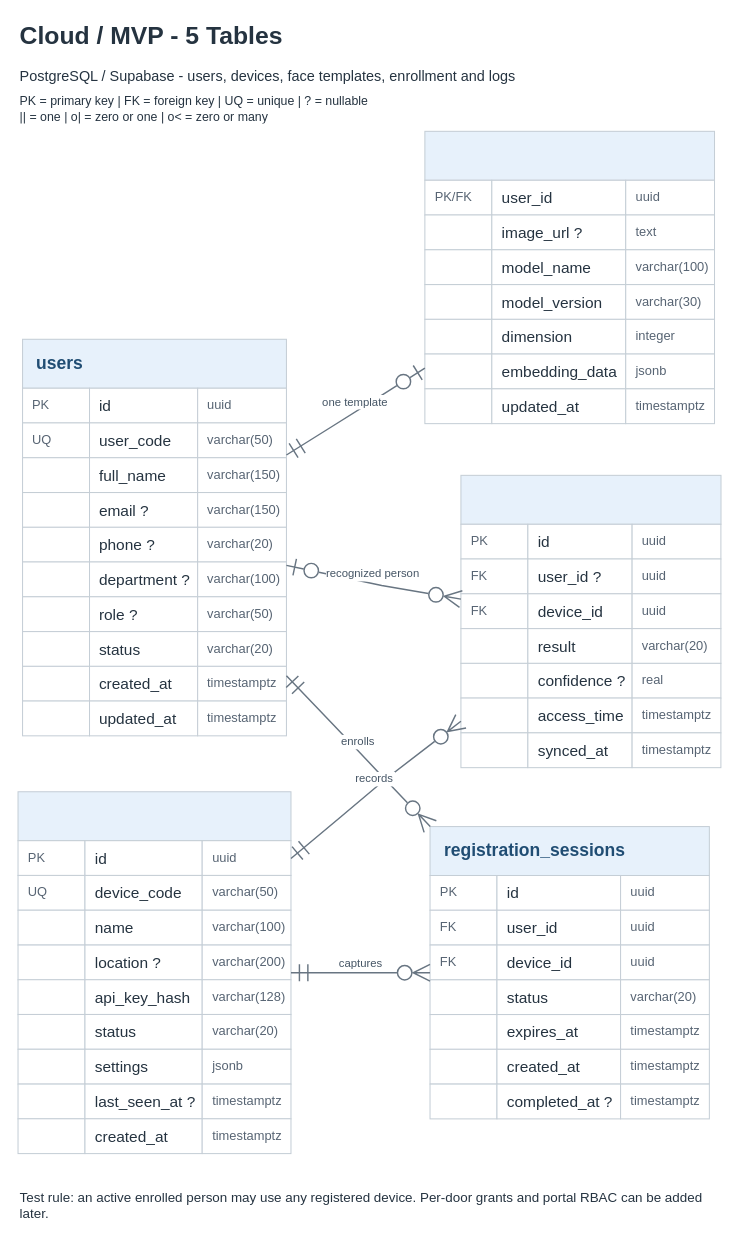
The diagram is 740 pixels wide and 1248 high, and some of its shapes have lost their labels. Each missing label, with the centre of its shape:
access_logs: (x=590, y=499)
devices: (x=154, y=816)
face_embeddings: (x=569, y=155)
